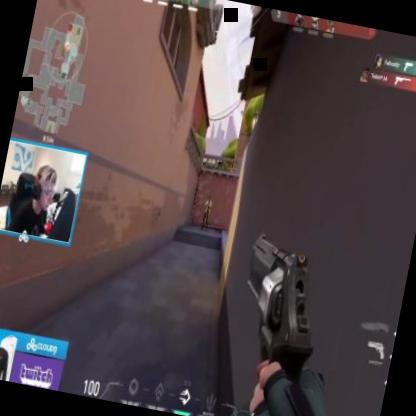enemy: (198, 195, 214, 230)
enemy_head: (207, 196, 211, 203)
